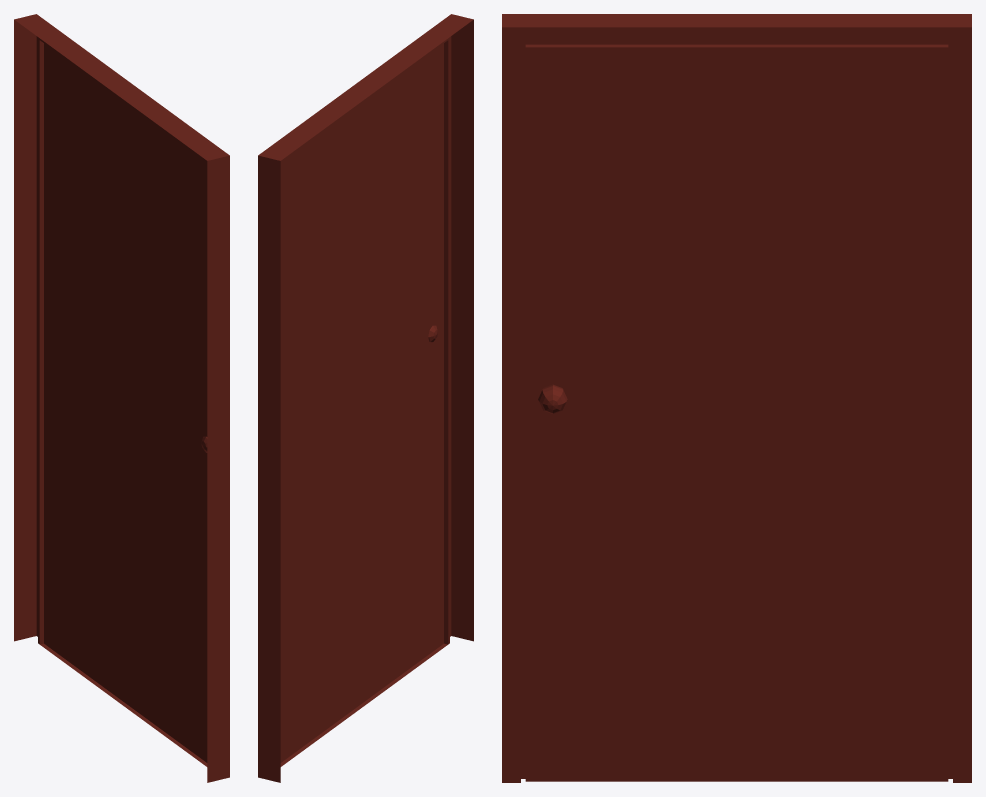
File: Door.fbx
3 renders of one model, left to right at view 1: azimuth 30°, elevation 25°; view 2: azimuth 150°, elevation 25°; view 3: azimuth 270°, elevation 25°, orthographic. The views are drawn at different scales.
Visible parts, largest first — view 1: Door; view 2: Door; view 3: Door.
Boxes of the visible parts, x1,y1,x2,y2 form: Door: (14, 14, 229, 782); Door: (258, 14, 473, 782); Door: (502, 14, 971, 782).
Size of the model in its own units: 10.93 by 173 by 97.52.
